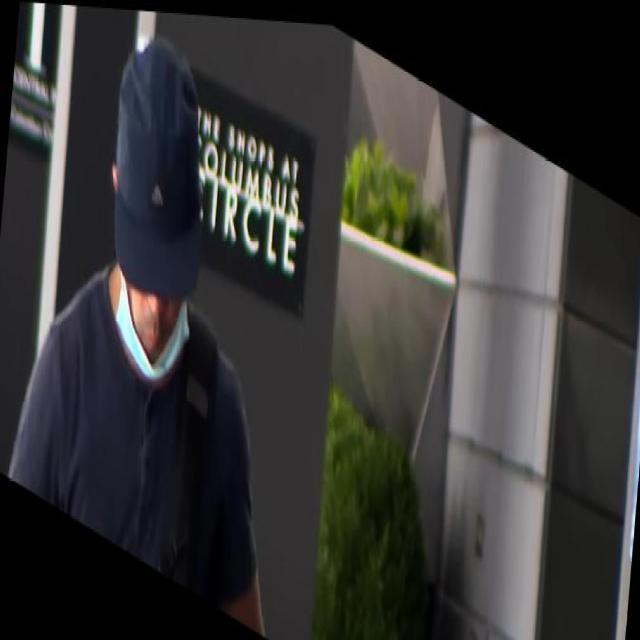hairnet: (113, 272, 192, 391)
